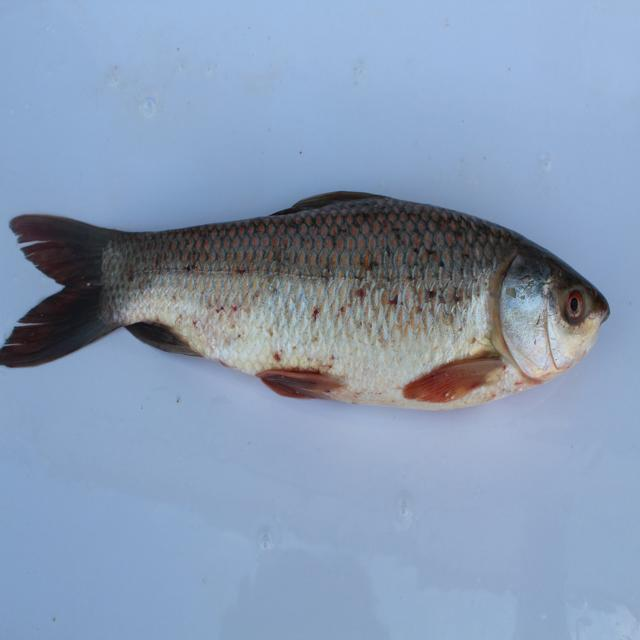Rohu: (6, 182, 612, 437)
